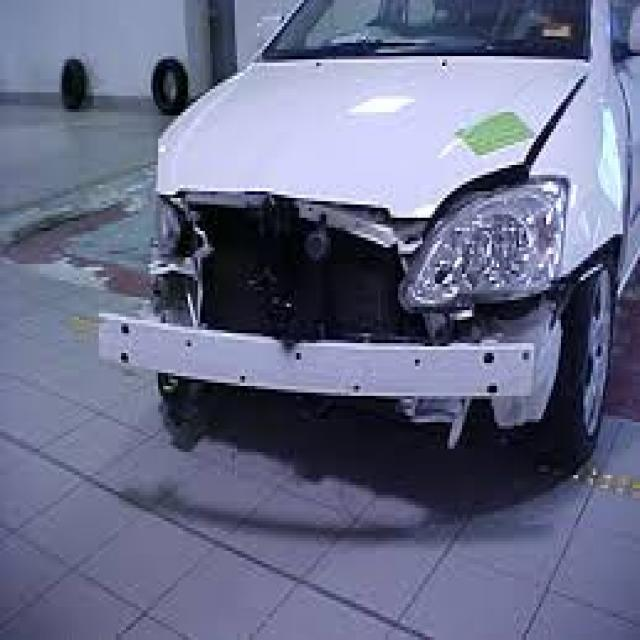moderate: (112, 76, 592, 436)
